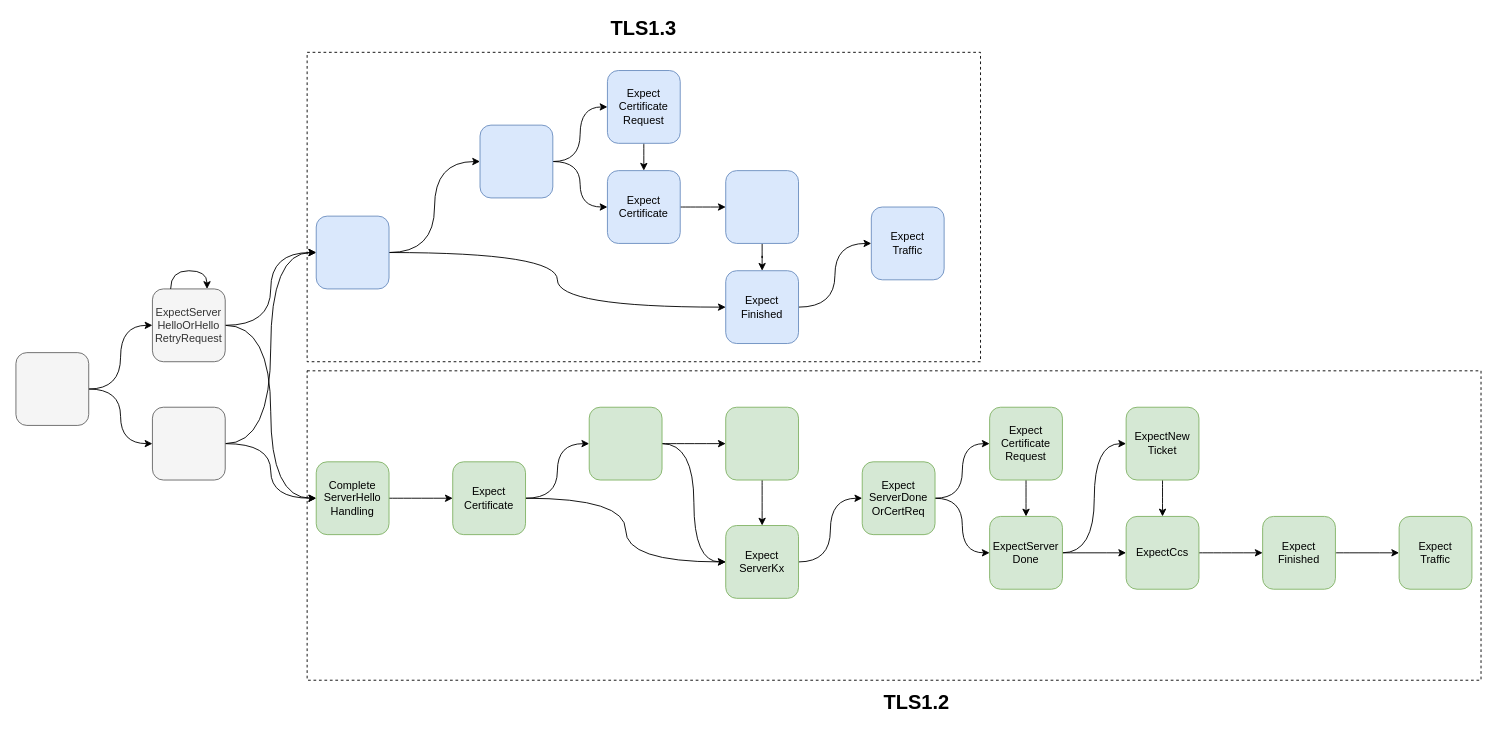
The diagram is 1497 pixels wide and 732 high, and some of its shapes have lost their labels. The centre of each missing label's shape, as x and y in pixels:
"Expect Certificate OrCertReq" goes at pixel 516 161.
"Expect Certificate Status" goes at pixel 762 443.
"Expect Certificate StatusOr ServerKx" goes at pixel 625 443.
"Expect Certificate Verify" goes at pixel 762 206.
"Expect Encrypted Extensions" goes at pixel 352 252.
"ExpectServer Hello" goes at pixel 188 443.
"Initialized" goes at pixel 52 388.
